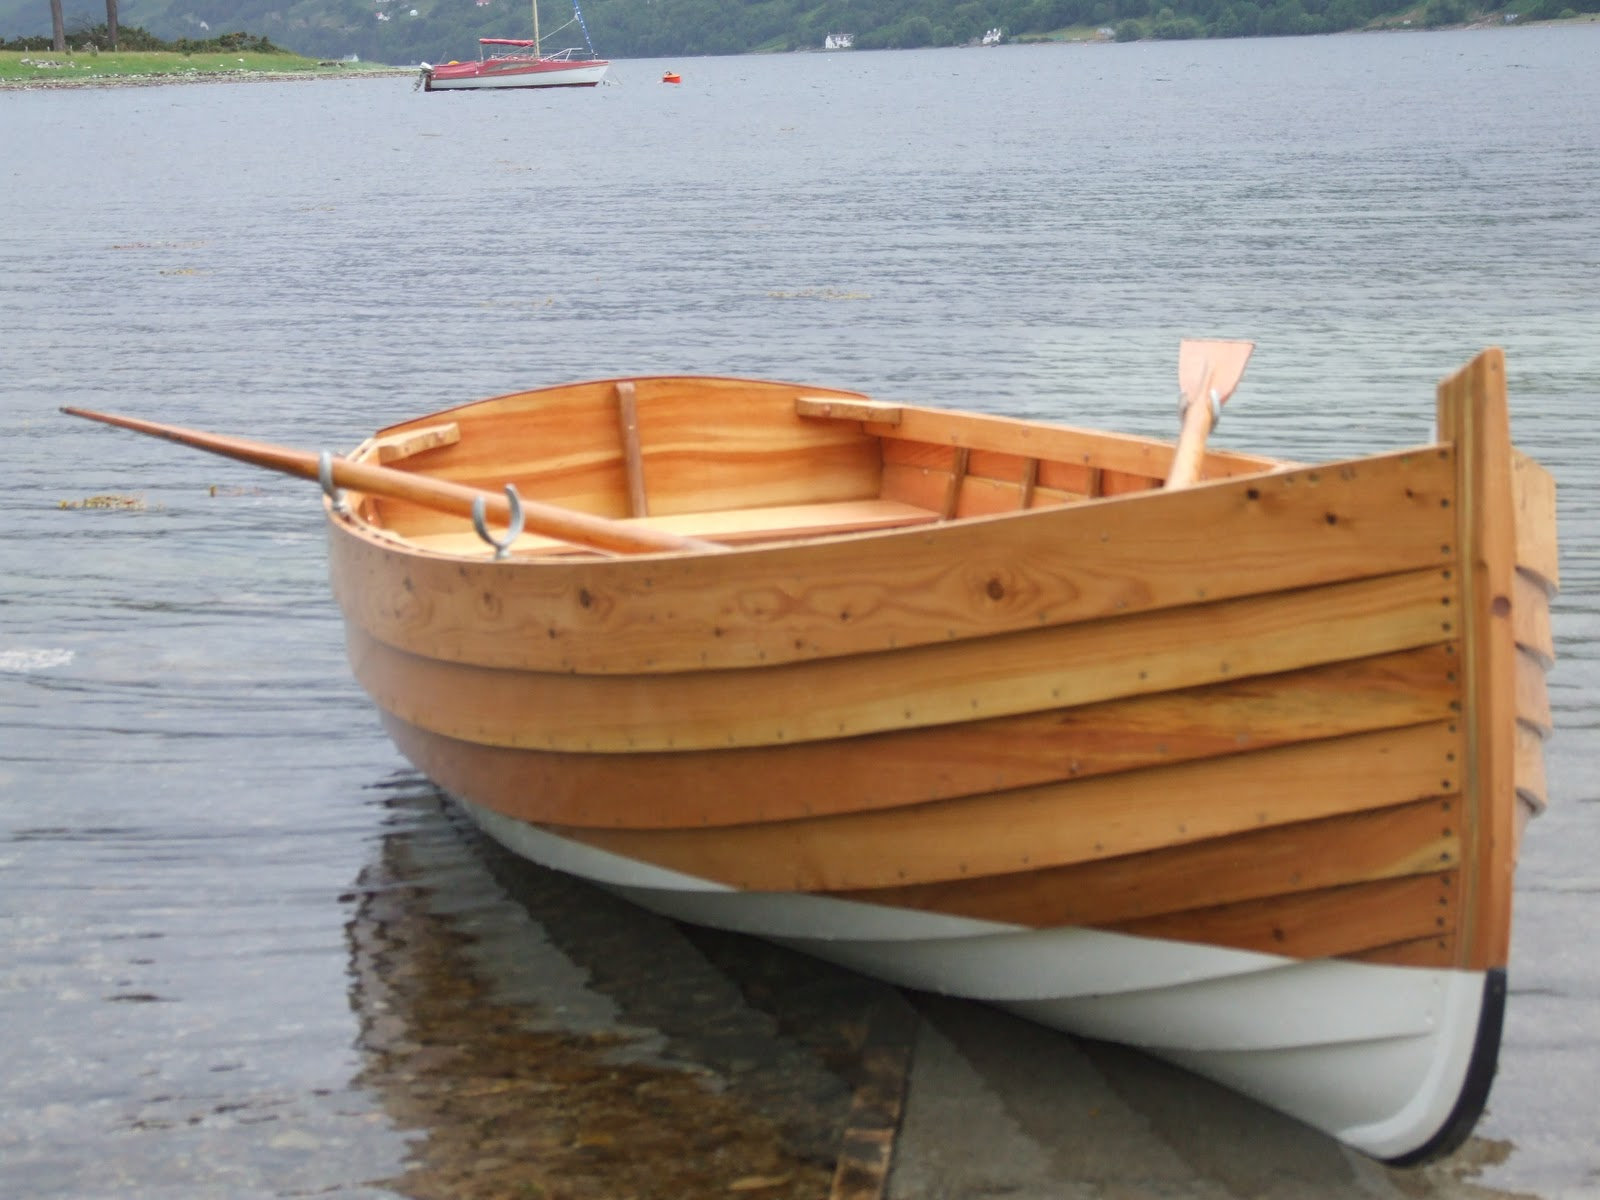boat: (58, 347, 1567, 1167)
